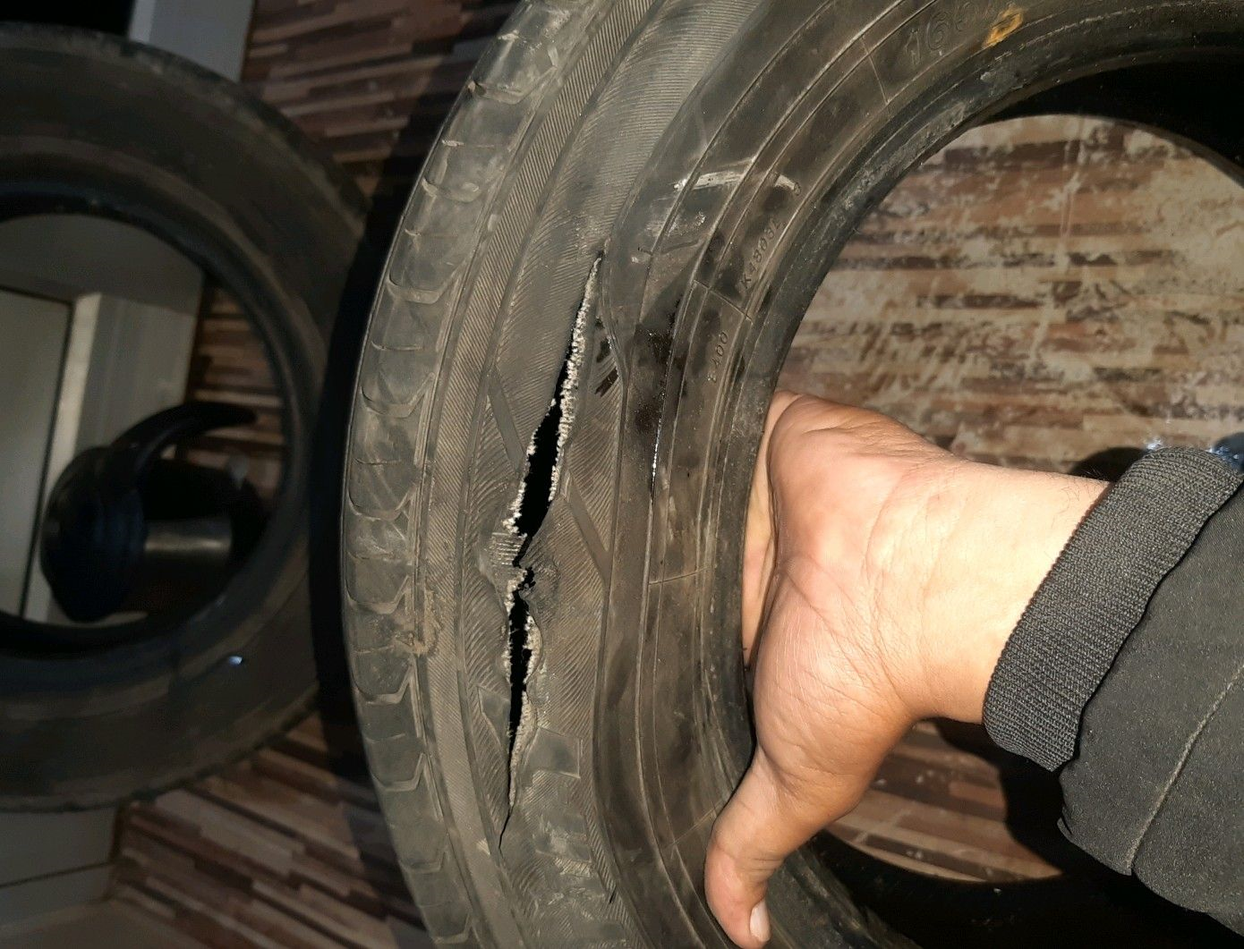cut: (493, 239, 606, 868)
